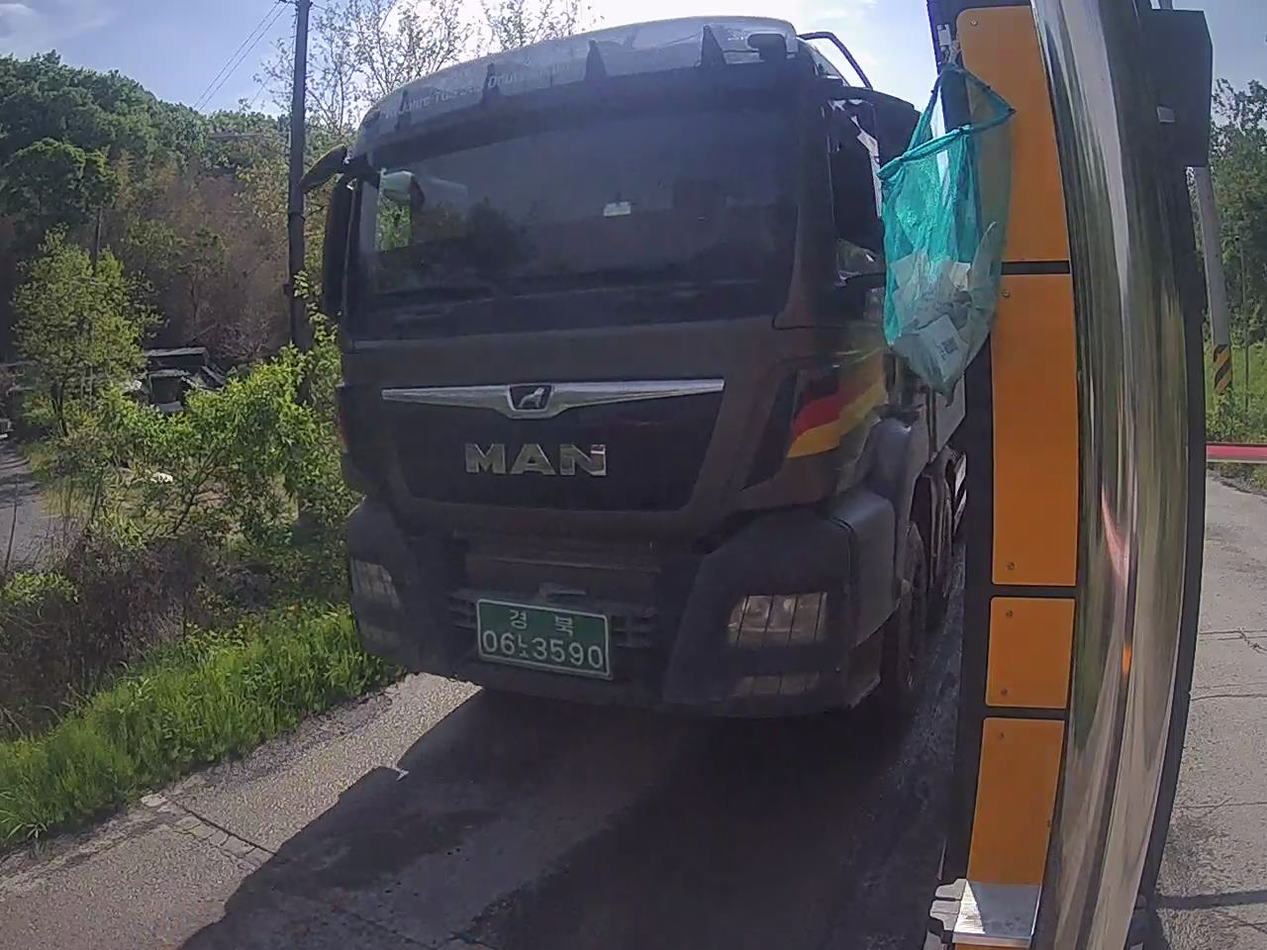license_plate: (478, 599, 611, 679)
truck: (304, 19, 963, 716)
